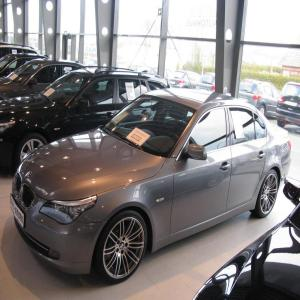Vehicle-registration-plate: (11, 194, 25, 228), (286, 102, 298, 108), (240, 98, 248, 103)
